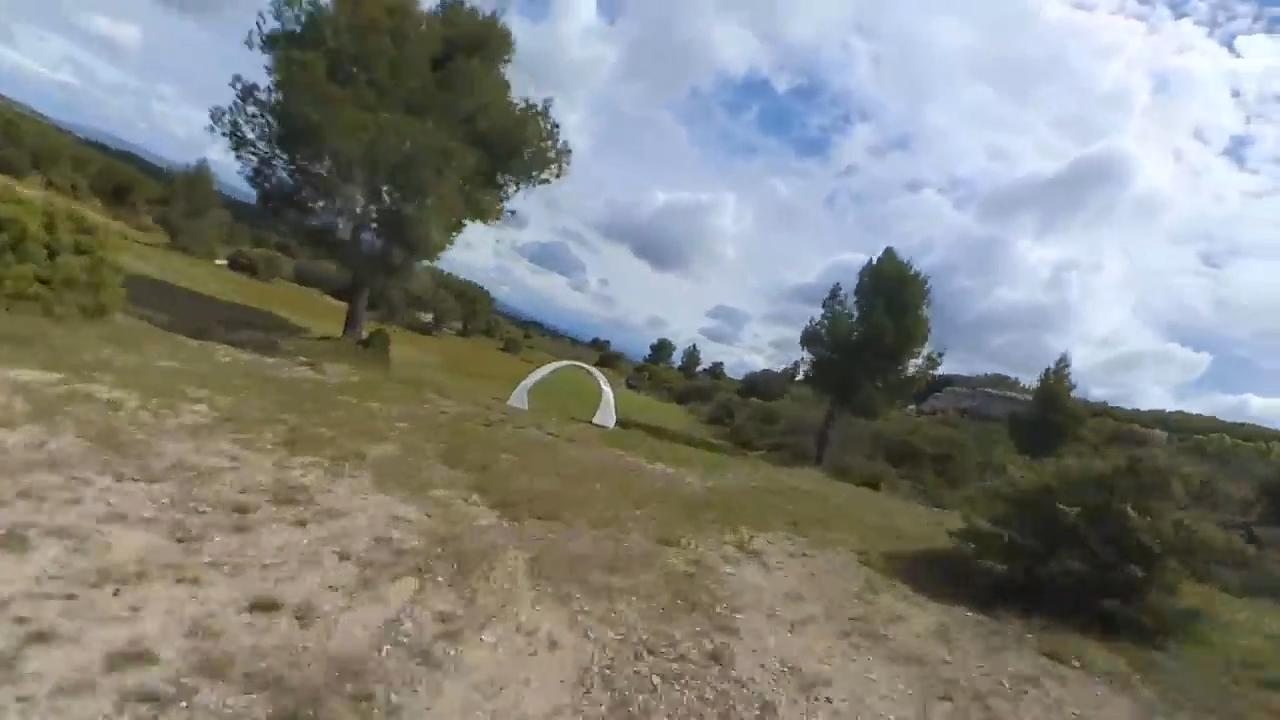gate: (509, 359, 616, 431)
